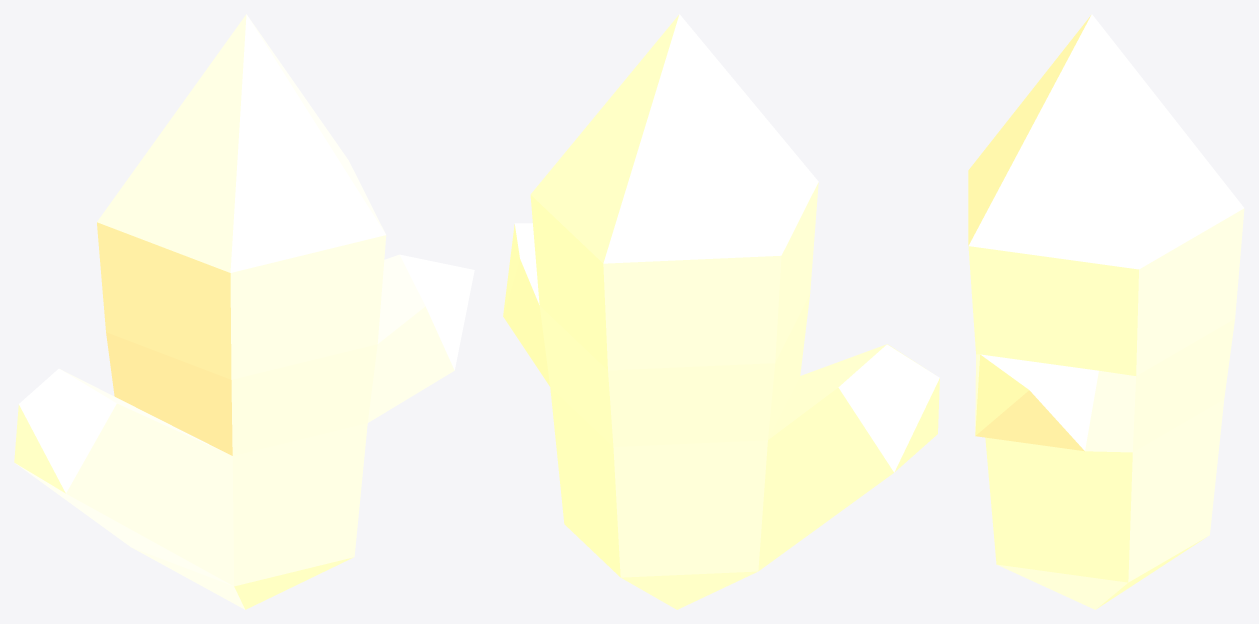
Rendered from crystal2.fbx.
3 renders of one model, left to right at view 1: azimuth 30°, elevation 25°; view 2: azimuth 150°, elevation 25°; view 3: azimuth 270°, elevation 25°, orthographic.
Parts seen in each view (by area): view 1: crystal2; view 2: crystal2; view 3: crystal2.
Part boxes in pixels (x1,y1,x2,y2): crystal2: [14, 14, 474, 609]; crystal2: [503, 14, 939, 609]; crystal2: [968, 14, 1244, 609].
Bounding box in the file's own units: 333 × 431 × 181.
